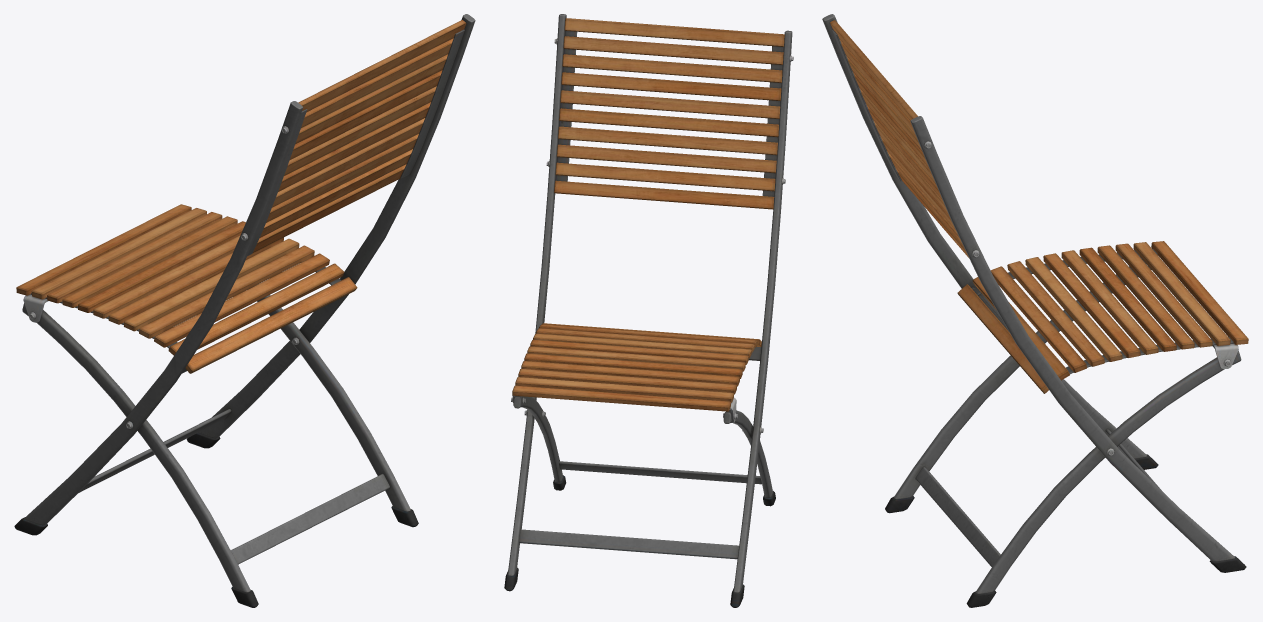
Rendered from ph_folding_chair_01.glb.
3 renders of one model, left to right at view 1: azimuth 30°, elevation 25°; view 2: azimuth 150°, elevation 25°; view 3: azimuth 270°, elevation 25°, orthographic. The views are drawn at different scales.
Parts seen in each view (by area): view 1: outdoor_table_chair_set_01_chair_01; view 2: outdoor_table_chair_set_01_chair_01; view 3: outdoor_table_chair_set_01_chair_01.
Part boxes in pixels (x1,y1,x2,y2): outdoor_table_chair_set_01_chair_01: (14, 14, 475, 607); outdoor_table_chair_set_01_chair_01: (504, 14, 793, 607); outdoor_table_chair_set_01_chair_01: (822, 14, 1248, 607).
Size of the model in its own units: 0.5741 by 0.8586 by 0.6612.
Materials: 1 (1 with a texture image).
